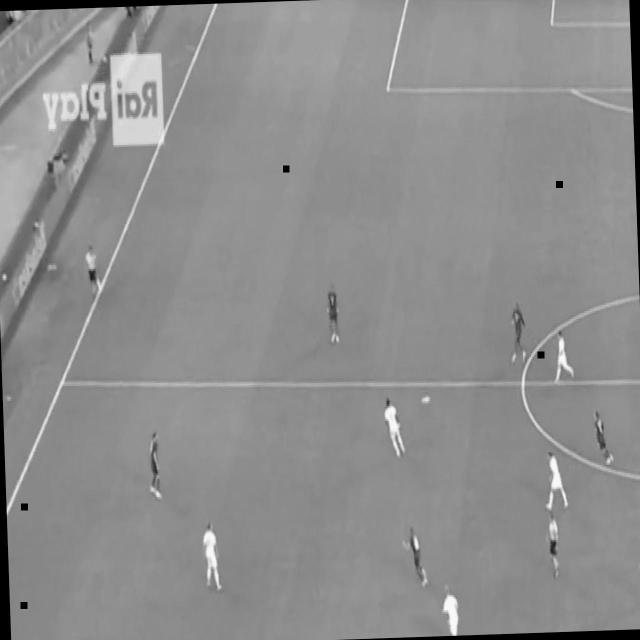ball: (420, 392, 431, 405), (0, 268, 8, 282), (101, 52, 109, 64)
player-white: (400, 523, 429, 591), (542, 449, 570, 515), (201, 519, 225, 593), (382, 395, 406, 462), (592, 407, 616, 471), (439, 578, 465, 636), (551, 327, 575, 388), (508, 300, 528, 368), (544, 510, 562, 580), (148, 429, 164, 504), (324, 281, 341, 348), (83, 241, 101, 301), (637, 529, 640, 607)
